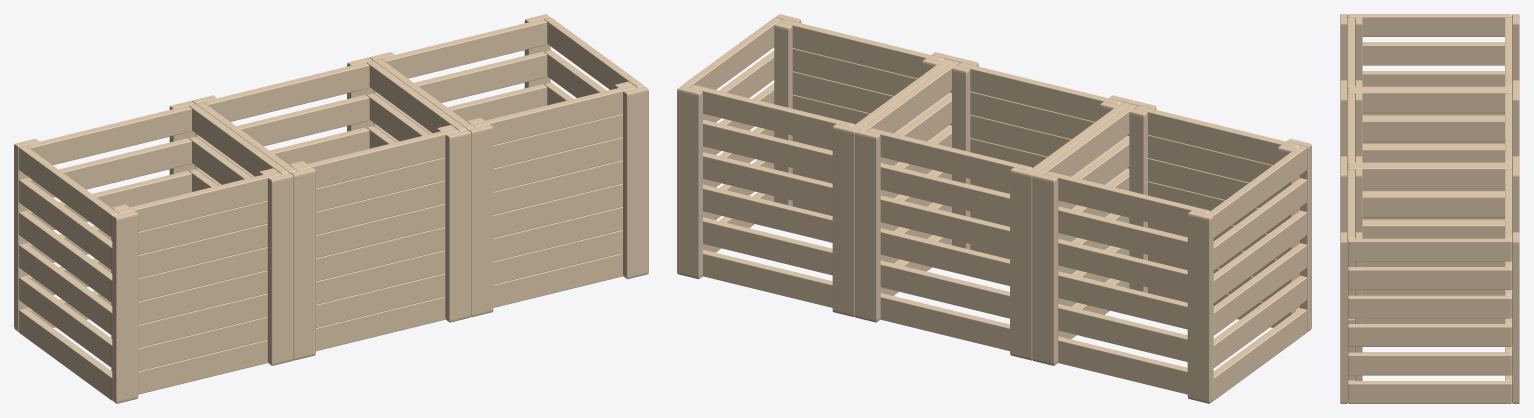
Rendered from Compost_Bins_01.glb.
The picture shows the model from 3 angles, left to right: view 1: azimuth 30°, elevation 25°; view 2: azimuth 150°, elevation 25°; view 3: azimuth 270°, elevation 25°; orthographic projection. The views are drawn at different scales.
Parts seen in each view (by area): view 1: 2x6in Board.161, 2x6in Board.191, 2x6in Board.160, 2x6in Board.221, 2x6in Board.220, 2x6in Board.190, 2x6in Board.241, 2x6in Board.211, 2x6in Board.181, 2x6in Board.219, 2x6in Board.189, 2x6in Board.249 (+42 smaller); view 2: 2x6in Board.163, 2x6in Board.193, 2x6in Board.162, 2x6in Board.223, 2x6in Board.222, 2x6in Board.192, 2x6in Board.249, 2x6in Board.211, 2x6in Board.181, 2x6in Board.241, 2x6in Board.219, 2x6in Board.189 (+45 smaller); view 3: 2x6in Board.228, 2x6in Board.234, 2x6in Board.240, 2x6in Board.225, 2x6in Board.231, 2x6in Board.237, 2x6in Board.239, 2x6in Board.176, 2x6in Board.206, 2x6in Board.236, 2x6in Board.179, 2x6in Board.209 (+34 smaller).
Part boxes in pixels (x1=…): 2x6in Board.161: x1=267, y1=172, x2=293, y2=365; 2x6in Board.191: x1=445, y1=129, x2=471, y2=322; 2x6in Board.160: x1=112, y1=210, x2=138, y2=403; 2x6in Board.221: x1=623, y1=86, x2=648, y2=279; 2x6in Board.220: x1=468, y1=124, x2=493, y2=317; 2x6in Board.190: x1=290, y1=167, x2=315, y2=360; 2x6in Board.241: x1=381, y1=19, x2=547, y2=78; 2x6in Board.211: x1=204, y1=62, x2=369, y2=121; 2x6in Board.181: x1=26, y1=106, x2=191, y2=164; 2x6in Board.219: x1=294, y1=128, x2=458, y2=188; 2x6in Board.189: x1=116, y1=171, x2=281, y2=231; 2x6in Board.249: x1=471, y1=85, x2=636, y2=145; 2x6in Board.163: x1=1032, y1=172, x2=1058, y2=365; 2x6in Board.193: x1=854, y1=129, x2=880, y2=322; 2x6in Board.162: x1=1187, y1=210, x2=1213, y2=403; 2x6in Board.223: x1=677, y1=86, x2=702, y2=279; 2x6in Board.222: x1=832, y1=124, x2=857, y2=317; 2x6in Board.192: x1=1010, y1=167, x2=1035, y2=360; 2x6in Board.249: x1=779, y1=19, x2=944, y2=78; 2x6in Board.211: x1=867, y1=128, x2=1031, y2=188; 2x6in Board.181: x1=1044, y1=171, x2=1209, y2=231; 2x6in Board.241: x1=689, y1=85, x2=854, y2=145; 2x6in Board.219: x1=956, y1=62, x2=1121, y2=121; 2x6in Board.189: x1=1134, y1=106, x2=1299, y2=164; 2x6in Board.228: x1=1347, y1=352, x2=1512, y2=375; 2x6in Board.234: x1=1347, y1=295, x2=1512, y2=318; 2x6in Board.240: x1=1347, y1=238, x2=1512, y2=261; 2x6in Board.225: x1=1347, y1=381, x2=1512, y2=403; 2x6in Board.231: x1=1347, y1=324, x2=1512, y2=346; 2x6in Board.237: x1=1347, y1=267, x2=1512, y2=289; 2x6in Board.239: x1=1347, y1=165, x2=1512, y2=188; 2x6in Board.176: x1=1362, y1=42, x2=1504, y2=65; 2x6in Board.206: x1=1362, y1=118, x2=1504, y2=141; 2x6in Board.236: x1=1362, y1=194, x2=1504, y2=217; 2x6in Board.179: x1=1347, y1=14, x2=1512, y2=36; 2x6in Board.209: x1=1347, y1=90, x2=1512, y2=112.
Bounding box in the file's own units: 3.66 × 1.22 × 1.22.
